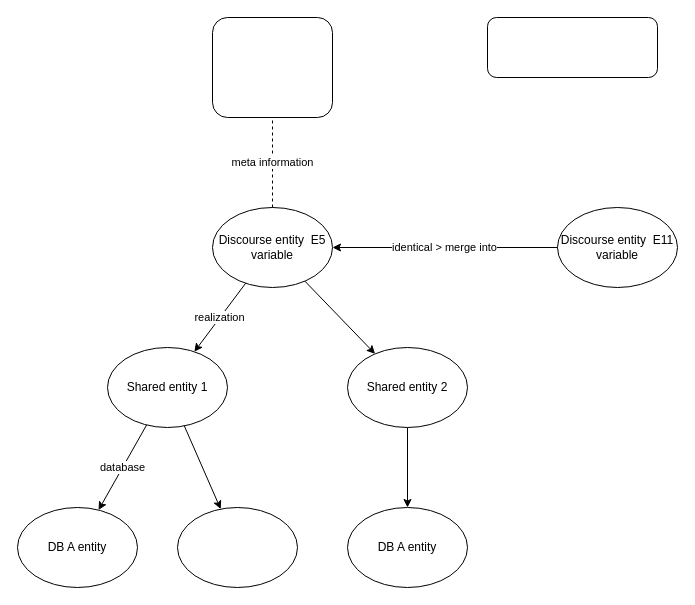
The diagram is 695 pixels wide and 605 high, and some of its shapes have lost their labels. Here are the shapes that lost their labels. From the top down, the centre of each, then its label:
the point at 272,67: Discourse entity E5 Features: gender=male number=plural sort=person
the point at 572,47: sort(animal) :- sort(dog) sort(animal) :- sort(cat)
the point at 237,547: DB B entity
